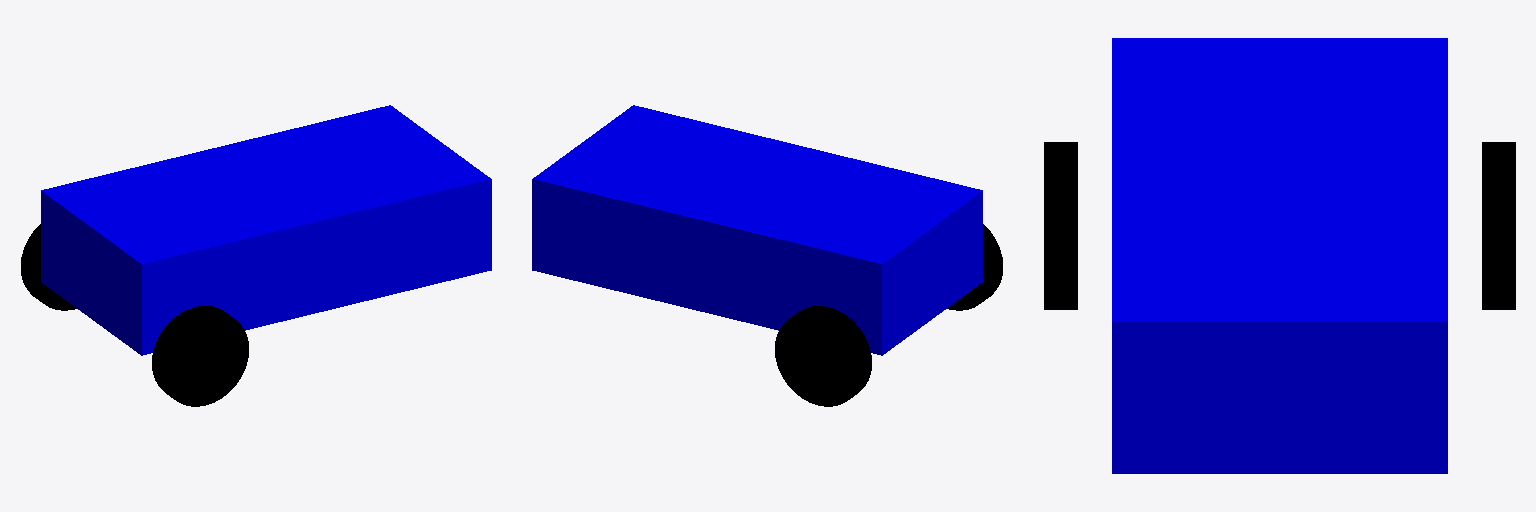
robot.urdf — simple_mobile_robot:
<?xml version="1.0"?>
<robot name="simple_mobile_robot">

  <!-- Base Link (Chassis) -->
  <link name="chassis">
    <visual>
      <geometry>
        <box size="0.4 0.2 0.1"/>  <!-- Length, Width, Height -->
      </geometry>
      <material name="blue">
        <color rgba="0 0 1 1"/>  <!-- Blue -->
      </material>
    </visual>
    <collision>
      <geometry>
        <box size="0.4 0.2 0.1"/>
      </geometry>
    </collision>
    <inertial>
      <mass value="2.0"/>  <!-- 2 kg -->
      <inertia ixx="0.01" ixy="0" ixz="0" iyy="0.01" iyz="0" izz="0.02"/>
    </inertial>
  </link>

  <!-- Left Wheel -->
  <link name="left_wheel">
    <visual>
      <geometry>
        <cylinder radius="0.05" length="0.02"/>  <!-- Radius, Length -->
      </geometry>
      <material name="black">
        <color rgba="0 0 0 1"/>  <!-- Black -->
      </material>
      <origin rpy="1.5708 0 0"/>  <!-- Rotate 90° around X (to stand upright) -->
    </visual>
    <collision>
      <geometry>
        <cylinder radius="0.05" length="0.02"/>
      </geometry>
      <origin rpy="1.5708 0 0"/>
    </collision>
    <inertial>
      <mass value="0.5"/>  <!-- 0.5 kg -->
      <inertia ixx="0.001" ixy="0" ixz="0" iyy="0.001" iyz="0" izz="0.002"/>
    </inertial>
  </link>

  <!-- Right Wheel -->
  <link name="right_wheel">
    <visual>
      <geometry>
        <cylinder radius="0.05" length="0.02"/>
      </geometry>
      <material name="black"/>
      <origin rpy="1.5708 0 0"/>
    </visual>
    <collision>
      <geometry>
        <cylinder radius="0.05" length="0.02"/>
      </geometry>
      <origin rpy="1.5708 0 0"/>
    </collision>
    <inertial>
      <mass value="0.5"/>
      <inertia ixx="0.001" ixy="0" ixz="0" iyy="0.001" iyz="0" izz="0.002"/>
    </inertial>
  </link>

  <!-- Left Wheel Joint (Revolute) -->
  <joint name="left_wheel_joint" type="revolute">
    <parent link="chassis"/>
    <child link="left_wheel"/>
    <origin xyz="-0.15 0.13 -0.05"/>  <!-- Position relative to chassis -->
    <axis xyz="0 1 0"/>  <!-- Rotate around Y-axis -->
    <limit effort="100" velocity="10" lower="-1e30" upper="1e30"/>  <!-- No limits -->
  </joint>

  <!-- Right Wheel Joint (Revolute) -->
  <joint name="right_wheel_joint" type="revolute">
    <parent link="chassis"/>
    <child link="right_wheel"/>
    <origin xyz="-0.15 -0.13 -0.05"/>
    <axis xyz="0 1 0"/>
    <limit effort="100" velocity="10" lower="-1e30" upper="1e30"/>
  </joint>

</robot>

--- Facts derived from the render (not from the file) ---
Views: 3 orthographic renders of the robot side by side, from view 1: azimuth 30°, elevation 25°; view 2: azimuth 150°, elevation 25°; view 3: azimuth 270°, elevation 25°.
Model simple_mobile_robot with 3 links and 2 joints (2 revolute), rooted at chassis, posed all joints at 0.
Links seen in each view (by area): view 1: chassis, right_wheel, left_wheel; view 2: chassis, left_wheel, right_wheel; view 3: chassis, left_wheel, right_wheel.
Boxes of the visible links, <box> form: chassis: <box>41,105,491,355</box>; right_wheel: <box>152,306,248,406</box>; left_wheel: <box>21,224,76,310</box>; chassis: <box>532,105,982,355</box>; left_wheel: <box>775,306,871,406</box>; right_wheel: <box>947,224,1002,310</box>; chassis: <box>1112,38,1447,473</box>; left_wheel: <box>1482,142,1515,309</box>; right_wheel: <box>1044,142,1077,309</box>.
Size in the robot's own frame: 0.4 by 0.28 by 0.15 metres.
Geometry: primitives only (box / cylinder / sphere), no mesh files.
